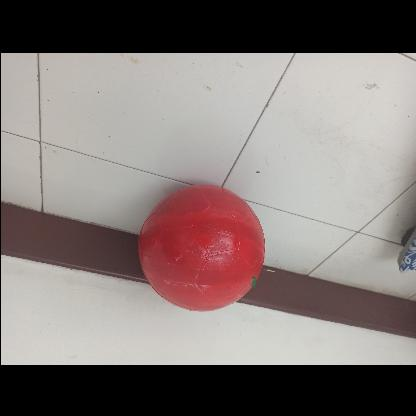red_ball: (136, 186, 262, 314)
